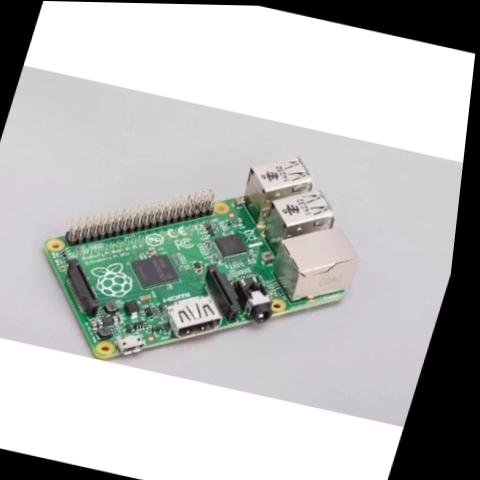Raspberry-Pi-1-Model-B-: (12, 101, 396, 406)
